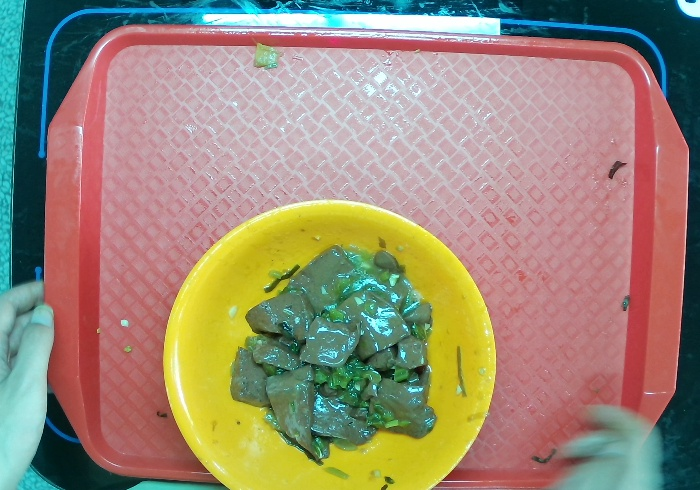YKMZ-Ju_Se_Tang_Wan: (140, 176, 512, 490)
